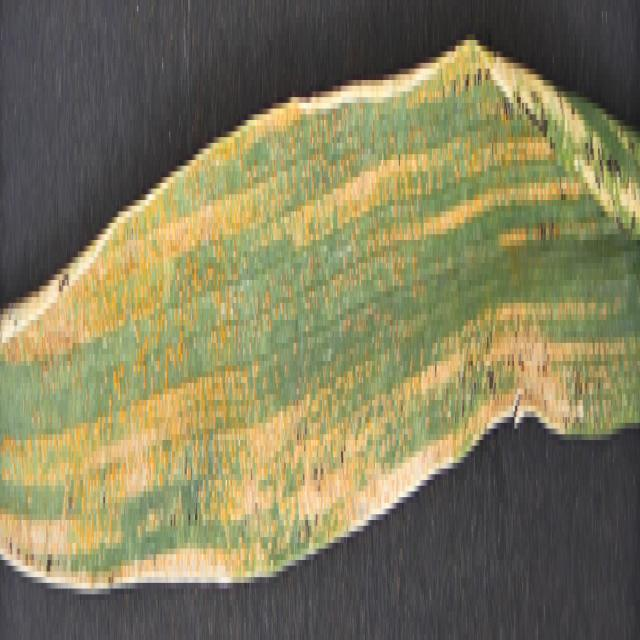leaf rust: (0, 40, 638, 589)
